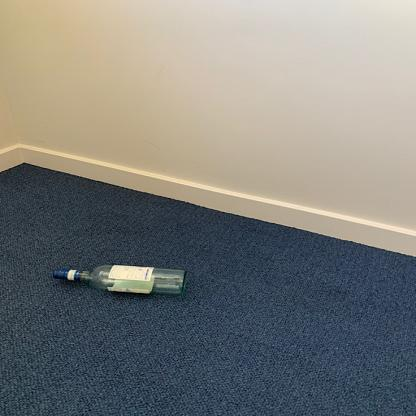trash: (50, 264, 188, 300)
